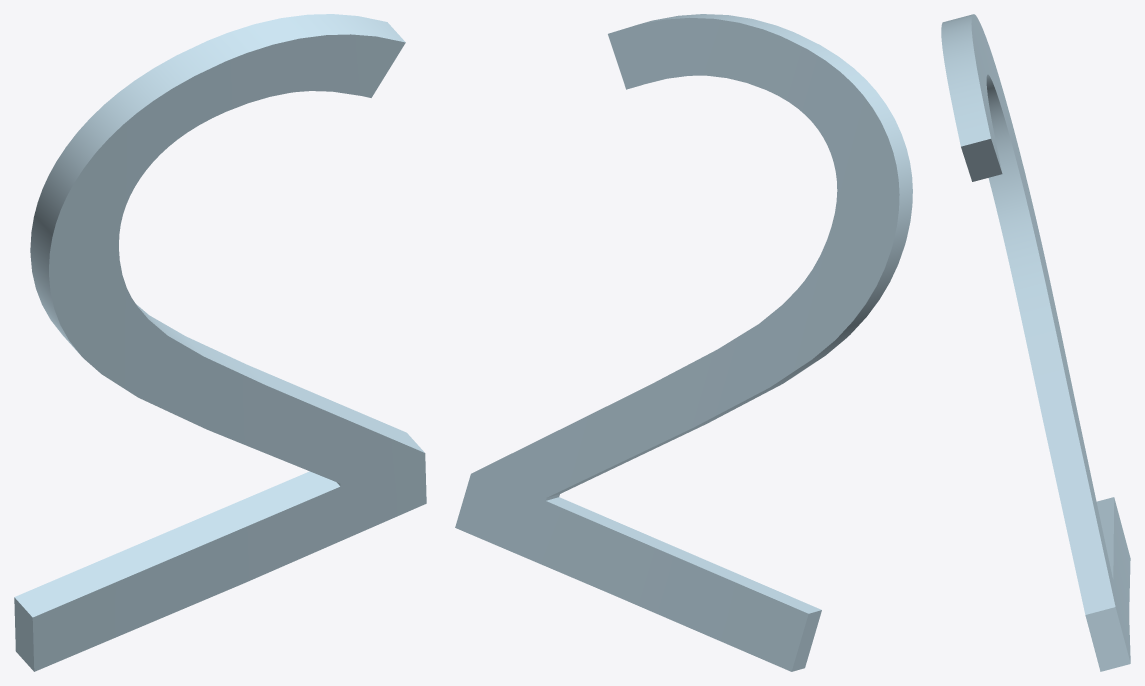
File: Number_2.gltf
3 renders of one model, left to right at view 1: azimuth 30°, elevation 25°; view 2: azimuth 150°, elevation 25°; view 3: azimuth 270°, elevation 25°, orthographic. The views are drawn at different scales.
Parts seen in each view (by area): view 1: Sub_5_Cell_3_1_Number_2; view 2: Sub_5_Cell_3_1_Number_2; view 3: Sub_5_Cell_3_1_Number_2.
Boxes of the visible parts, box(x1,y1,x2,y2) form: Sub_5_Cell_3_1_Number_2: box(14, 14, 426, 671); Sub_5_Cell_3_1_Number_2: box(455, 14, 912, 671); Sub_5_Cell_3_1_Number_2: box(941, 14, 1130, 671).
Size of the model in its own units: 0.0186 by 0.0264 by 0.00768.
